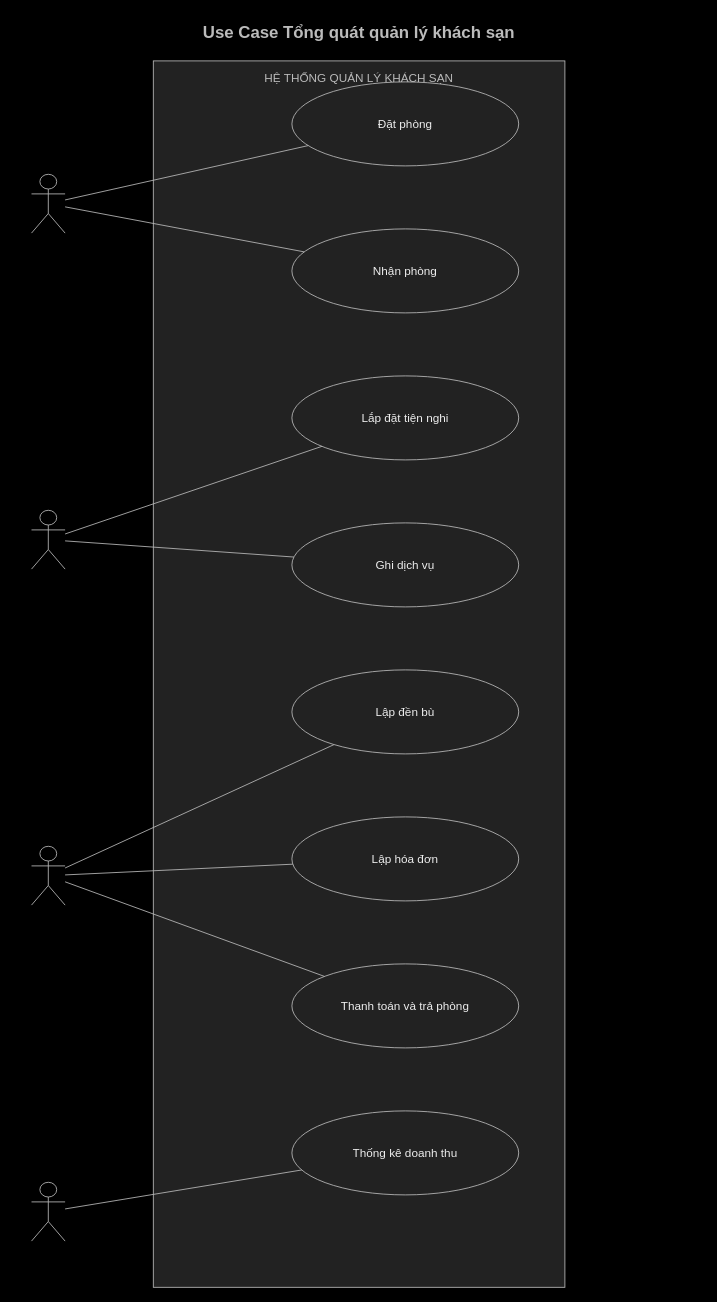
This 717x1302 diagram has some shape labels left out. Here are the shapes that lost their labels. From the top down, the centre of each, then its label:
At point 48,203: "Lễ tân".
At point 48,539: "Phục vụ".
At point 48,875: "Thanh toán".
At point 48,1211: "Quản lý".
